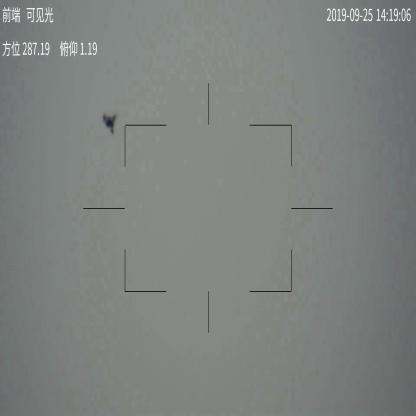uav: (100, 112, 119, 136)
